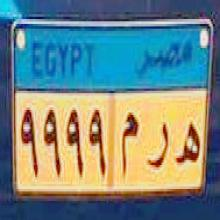9: (20, 104, 40, 186), (42, 103, 62, 183), (88, 106, 108, 183), (64, 107, 84, 182)
haa: (174, 116, 201, 176)
meem: (120, 107, 141, 187)
raa: (144, 117, 170, 177)
